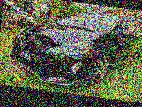car: (7, 2, 142, 96)
